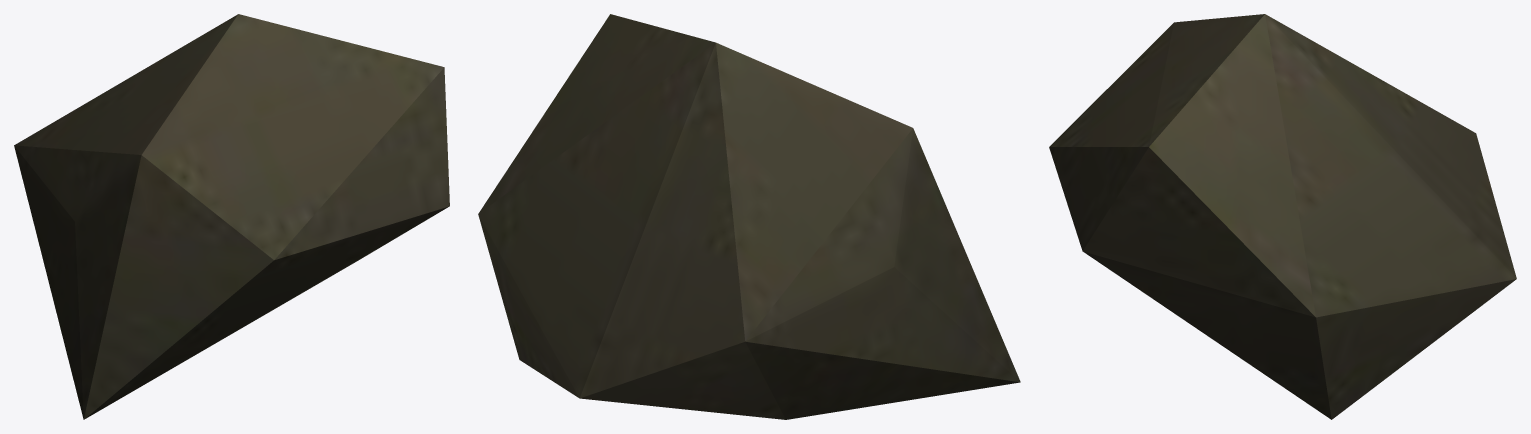
File: carbonic-asteroid-chunk.glb
3 views of the same model, side by side, from view 1: azimuth 30°, elevation 25°; view 2: azimuth 150°, elevation 25°; view 3: azimuth 270°, elevation 25° (orthographic). The views are drawn at different scales.
Parts seen in each view (by area): view 1: carbonic-asteroid-chunk; view 2: carbonic-asteroid-chunk; view 3: carbonic-asteroid-chunk.
Boxes of the visible parts, left/top/right/bottom form: carbonic-asteroid-chunk: left=14, top=14, right=449, bottom=419; carbonic-asteroid-chunk: left=478, top=14, right=1020, bottom=419; carbonic-asteroid-chunk: left=1049, top=14, right=1516, bottom=419.
Size of the model in its own units: 0.24 by 0.17 by 0.22.
1 material, 1 textured.
